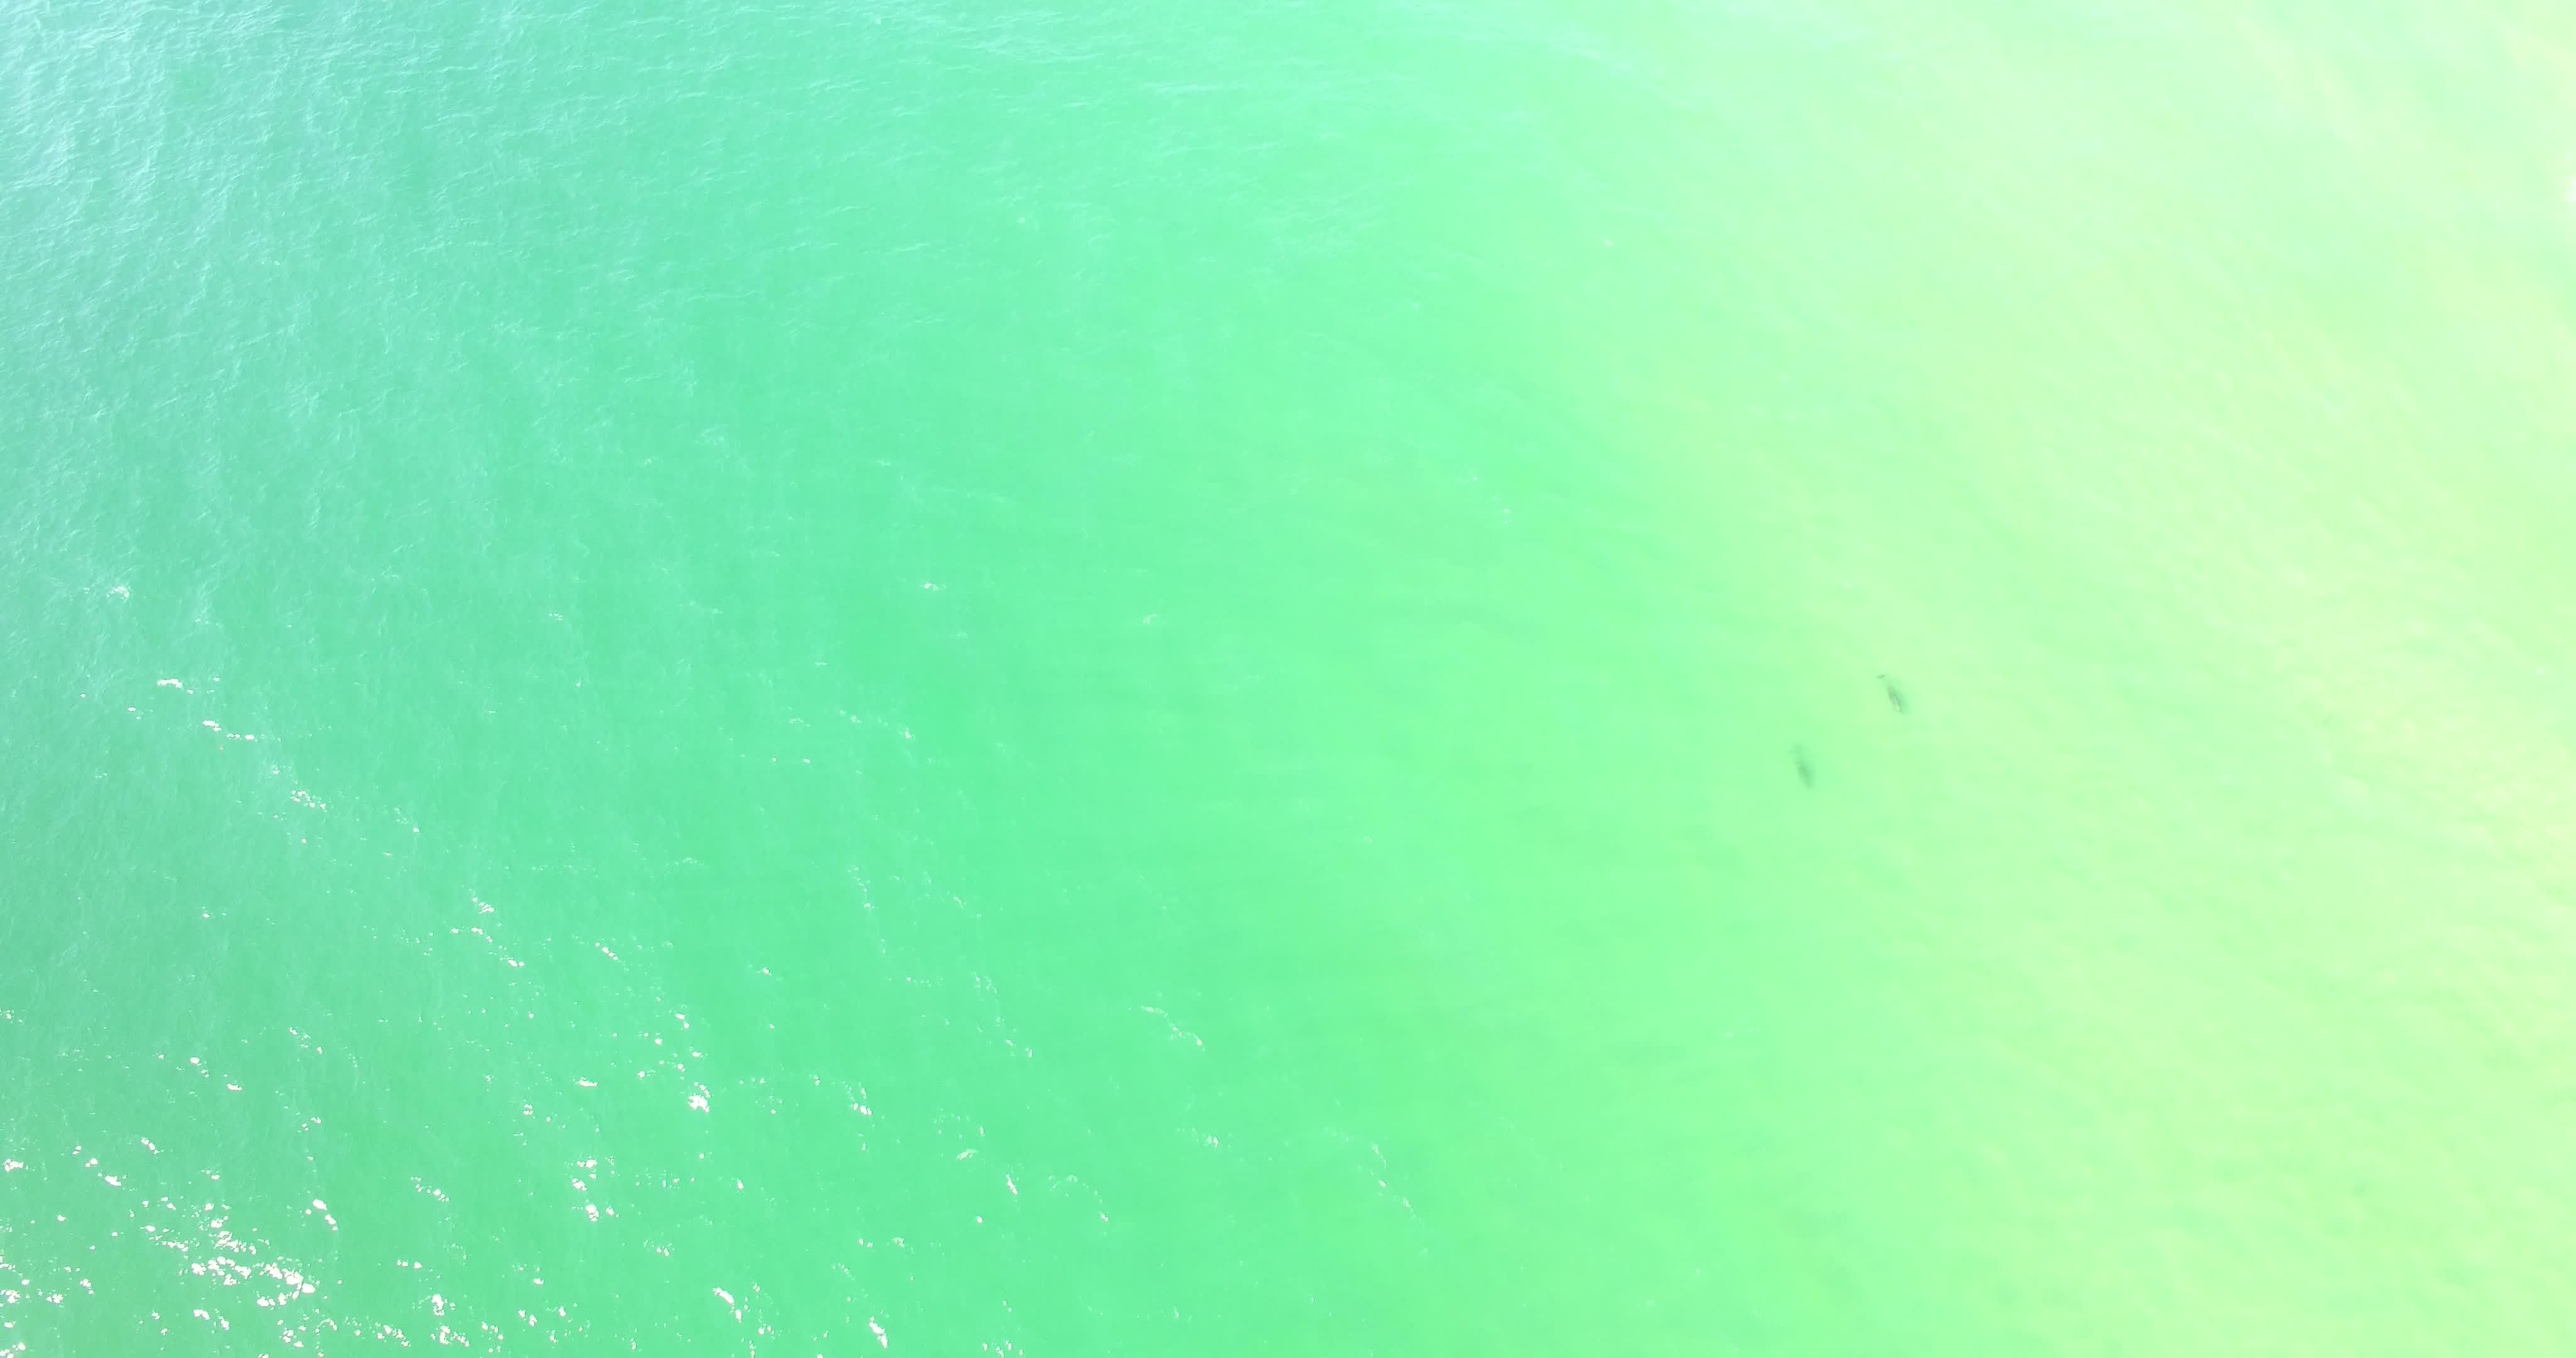dolphin: (1849, 651, 1923, 736), (1767, 714, 1828, 804)
